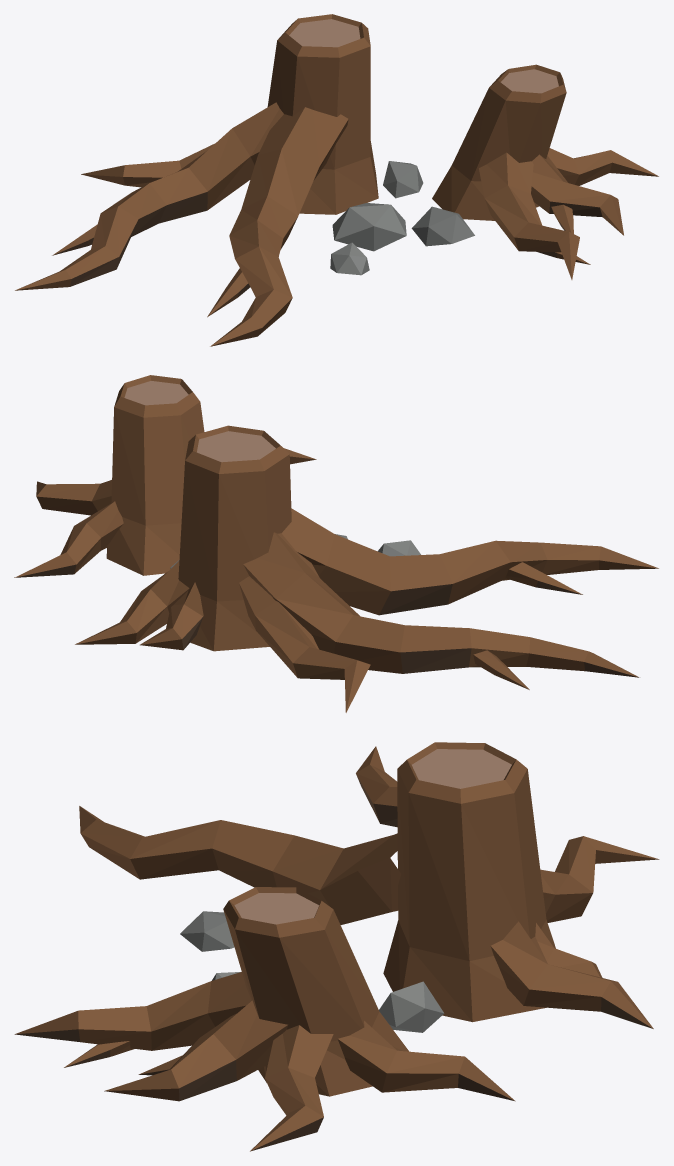
File: exposed-tree-roots-e1409c.glb
3 renders of one model, top to bottom at view 1: azimuth 30°, elevation 25°; view 2: azimuth 150°, elevation 25°; view 3: azimuth 270°, elevation 25°, orthographic. The views are drawn at different scales.
Parts seen in each view (by area): view 1: roots; view 2: roots; view 3: roots.
Part boxes in pixels (x1,y1,x2,y2): roots: [15, 14, 658, 346]; roots: [14, 375, 658, 712]; roots: [14, 742, 659, 1151].
Bounding box in the file's own units: 2.49 × 0.63 × 1.67.
